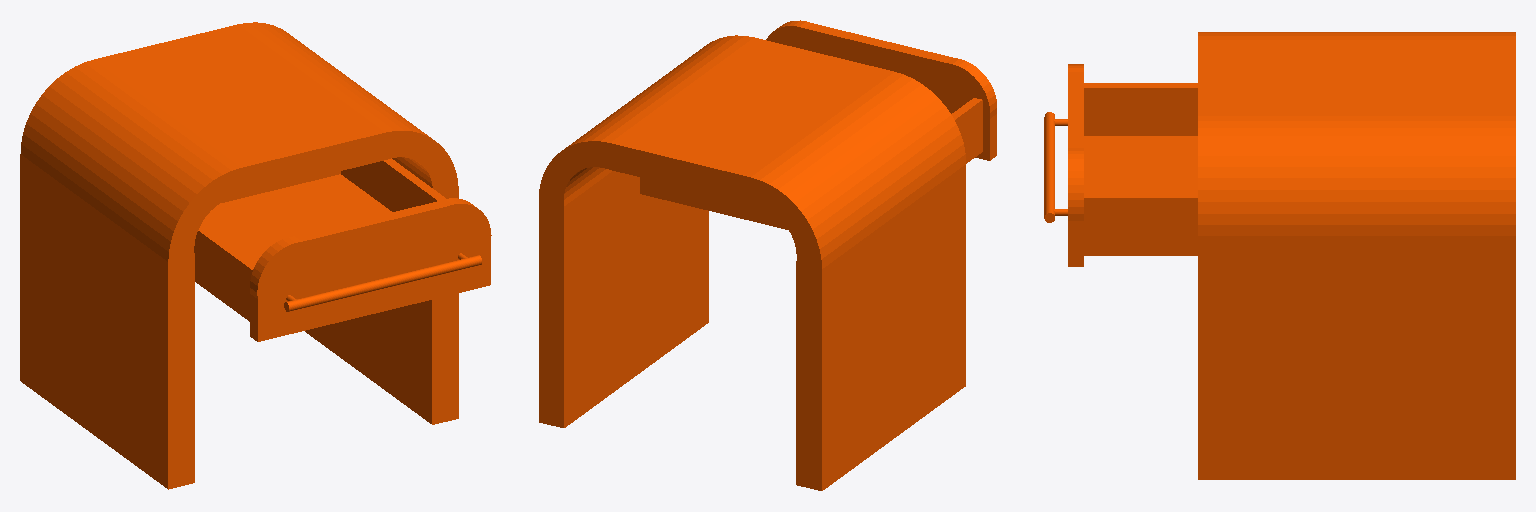
robot.urdf — Nightstand_699352851ebae49e284e26d791b72df8:
<?xml version="1.0" ?>
<robot name="Nightstand_699352851ebae49e284e26d791b72df8">
   <material name="obj_color">
      <color rgba="1.0 0.423529411765 0.0392156862745 1.0"/>
   </material>
   <link name="top">
      <inertial>
         <origin rpy="0.0006964613740133387 0.0008654659827802256 0.0008920241249245308" xyz="0.0004528784820017885 0.005598730223631223 -0.01555888998755356"/>
         <mass value="0.6455394221720245"/>
         <inertia ixx="0.0008654653771321093" ixy="3.126860893326293e-07" ixz="-8.082987709568822e-08" iyy="0.0007139138060714874" iyz="5.575256422224453e-05" izz="0.0008745722985144982"/>
      </inertial>
      <visual>
         <origin rpy="0 0 0" xyz="0 0 0"/>
         <geometry>
            <mesh filename="top_watertight_tiny.stl" scale="1 1 1"/>
         </geometry>
         <material name="obj_color"/>
      </visual>
      <collision>
         <origin rpy="0 0 0" xyz="0 0 0"/>
         <geometry>
            <mesh filename="top_watertight_tiny.obj" scale="1 1 1"/>
         </geometry>
      </collision>
   </link>
   <link name="bottom">
      <inertial>
         <origin rpy="1.633333333199431e-08 1.633333333199431e-08 1.633333333362855e-08" xyz="0.3464080000000008 0.3464080000000008 0.3464080000000008"/>
         <mass value="0.0009800000000000017"/>
         <inertia ixx="1.633333333253906e-08" ixy="5.447480642029219e-19" ixz="5.447480642029219e-19" iyy="1.633333333253906e-08" iyz="5.447480642029219e-19" izz="1.633333333253906e-08"/>
      </inertial>
      <visual>
         <origin rpy="0 0 0" xyz="0 0 0"/>
         <geometry>
            <mesh filename="bottom_watertight_tiny.stl" scale="1 1 1"/>
         </geometry>
         <material name="obj_color"/>
      </visual>
   </link>
   <joint name="rotation" type="revolute">
      <origin xyz="0 0 0"/>
      <axis xyz="0 0 -1"/>
      <parent link="bottom"/>
      <child link="top"/>
      <dynamics damping="1.0" friction="1.0"/>
      <limit effort="0.1" velocity="0.1" lower="0" upper="0.001"/>
   </joint>
</robot>

--- Facts derived from the render (not from the file) ---
3 views of the same robot in one strip: view 1: azimuth 30°, elevation 25°; view 2: azimuth 150°, elevation 25°; view 3: azimuth 270°, elevation 25° (orthographic).
Model Nightstand_699352851ebae49e284e26d791b72df8 with 2 links and 1 joints (1 revolute), rooted at bottom, posed all joints at 0.
Visible links, largest first — view 1: top; view 2: top; view 3: top.
Boxes of the visible links, x1,y1,x2,y2 form: top: (20,22,491,489); top: (539,20,996,490); top: (1044,32,1515,479).
Size in the robot's own frame: 0.085 by 0.1111 by 0.085 metres.
Meshes: 2 distinct files referenced, 1 mesh visuals loaded (1 binary STL); not drawn: 1 (reference not matched to a file when rendering).
